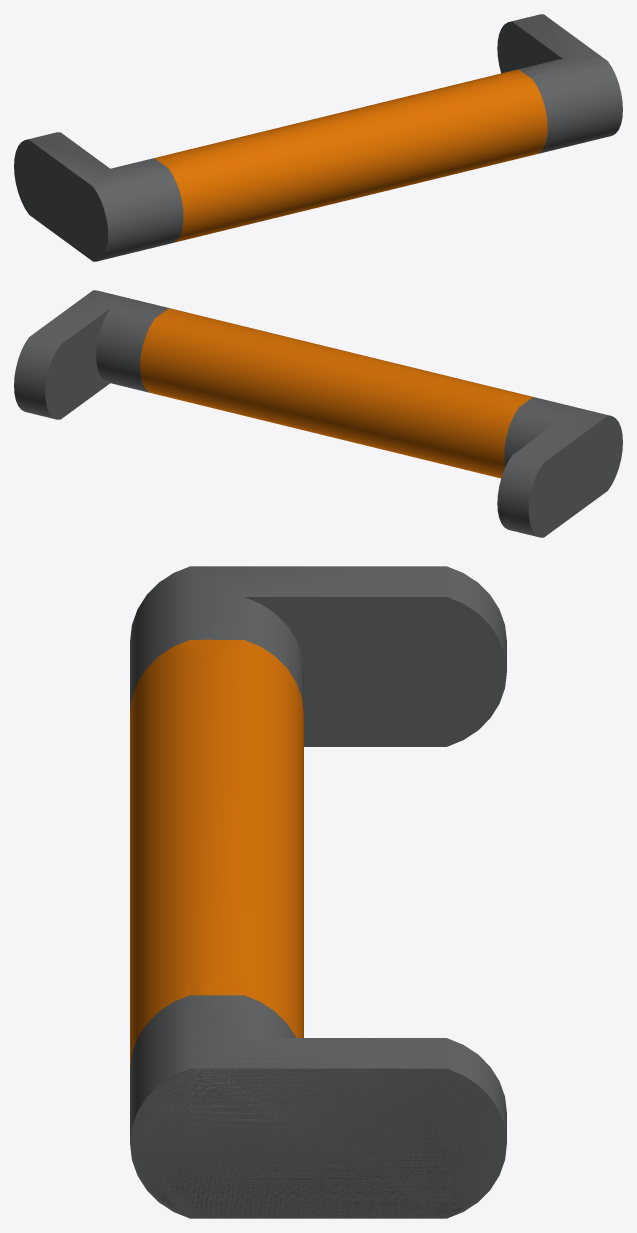
3 views of the same model, one above another, from view 1: azimuth 30°, elevation 25°; view 2: azimuth 150°, elevation 25°; view 3: azimuth 270°, elevation 25° (orthographic). The views are drawn at different scales.
Visible parts, largest first — view 1: g2_LOD0, g2_col; view 2: g2_LOD0, g2_col; view 3: g2_LOD0, g2_col.
Part boxes in pixels (x1,y1,x2,y2): g2_LOD0: [14, 14, 622, 261]; g2_col: [14, 15, 606, 261]; g2_LOD0: [14, 290, 622, 537]; g2_col: [30, 291, 622, 537]; g2_LOD0: [130, 566, 506, 1218]; g2_col: [130, 566, 506, 1218].
Size of what is drawn, in the model's own units: 82 by 11.93 by 26.
